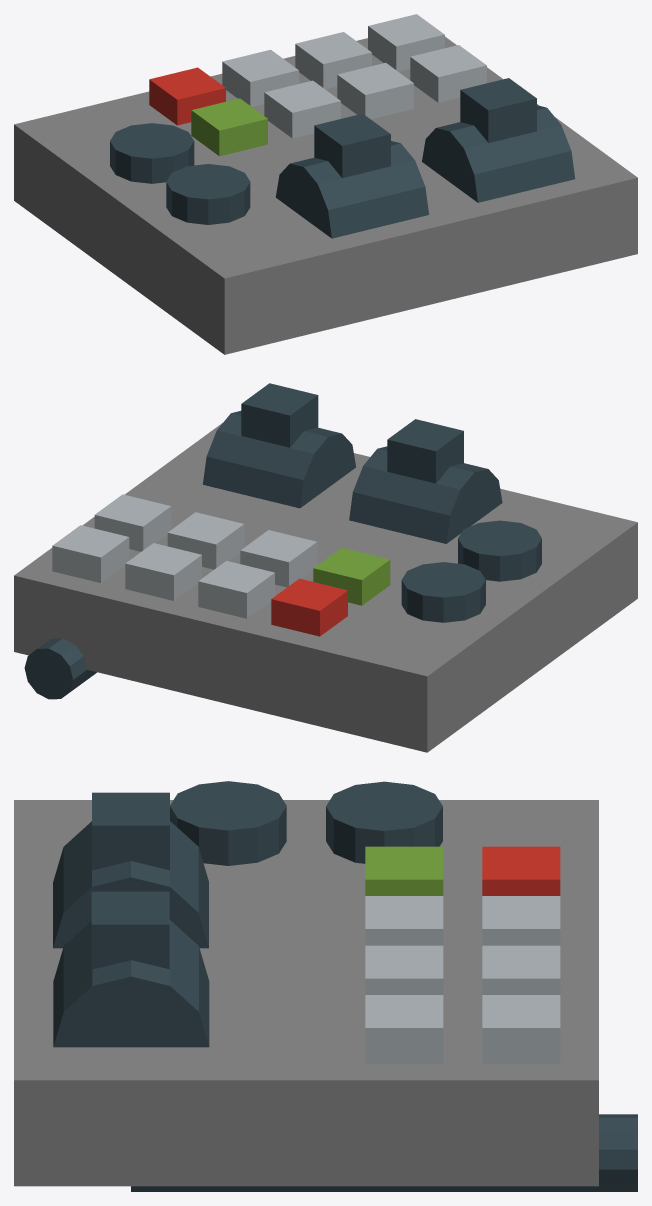
The picture shows the model from 3 angles, top to bottom: view 1: azimuth 30°, elevation 25°; view 2: azimuth 150°, elevation 25°; view 3: azimuth 270°, elevation 25°; orthographic projection. The views are drawn at different scales.
Visible parts, largest first — view 1: node_MeshObject1619947520-PolyPaper22; view 2: node_MeshObject1619947520-PolyPaper22; view 3: node_MeshObject1619947520-PolyPaper22.
Boxes of the visible parts, <box> form: node_MeshObject1619947520-PolyPaper22: <box>14,14,637,354</box>; node_MeshObject1619947520-PolyPaper22: <box>14,383,637,752</box>; node_MeshObject1619947520-PolyPaper22: <box>14,781,637,1191</box>.
Bounding box in the file's own units: 0.17 × 0.07 × 0.16.
